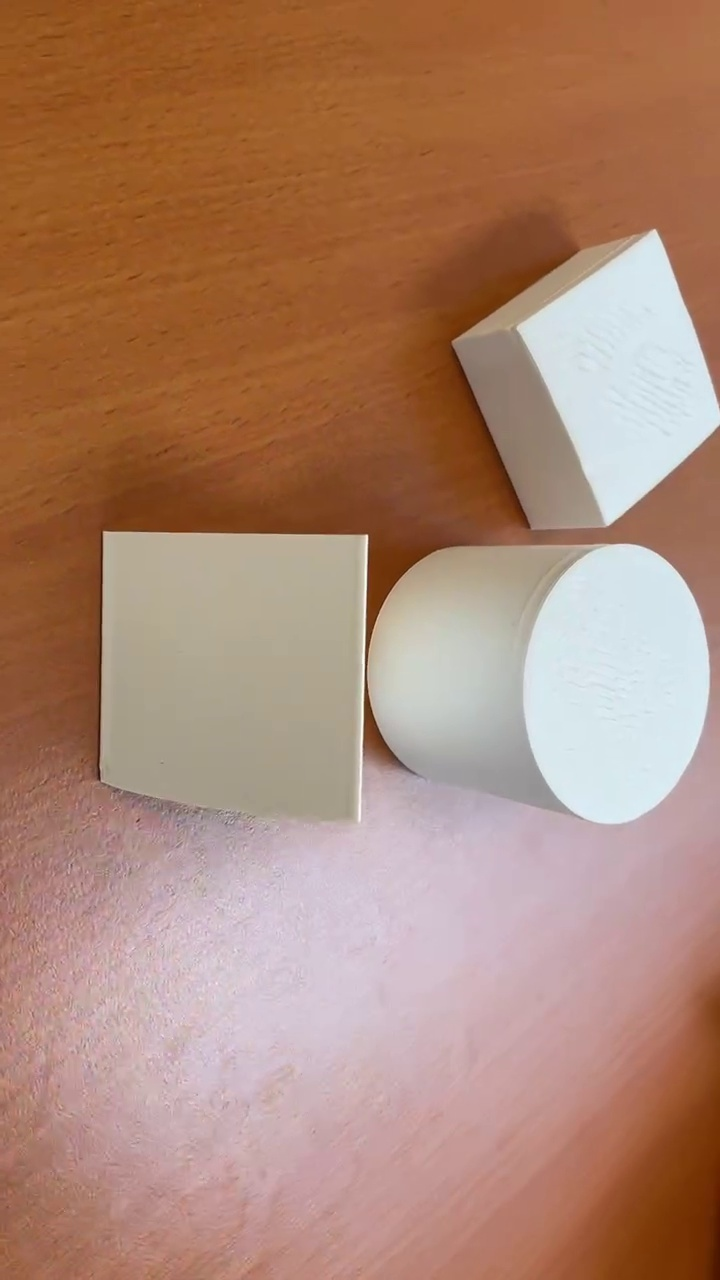Cube_short: (446, 226, 720, 530)
Cylinder: (365, 535, 712, 824)
Triangle: (93, 519, 368, 823)
